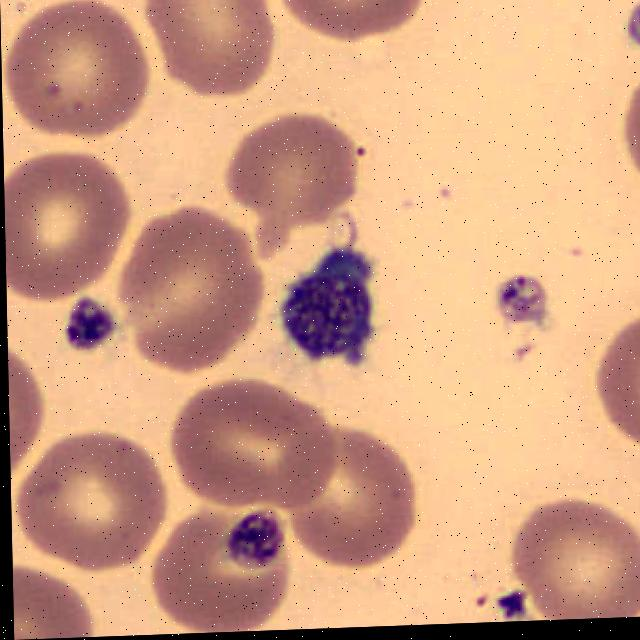platelets: (281, 240, 380, 366), (225, 505, 297, 576), (55, 290, 116, 365), (488, 272, 546, 329), (625, 0, 640, 58)
rbc: (165, 371, 337, 513), (115, 211, 262, 375), (12, 425, 166, 576), (0, 0, 154, 147), (272, 427, 419, 571), (3, 137, 133, 299), (491, 486, 640, 622), (224, 112, 360, 239), (144, 515, 283, 627), (145, 0, 282, 112), (283, 0, 445, 63), (14, 562, 100, 640), (590, 319, 640, 440), (7, 336, 47, 484), (594, 79, 640, 204)
